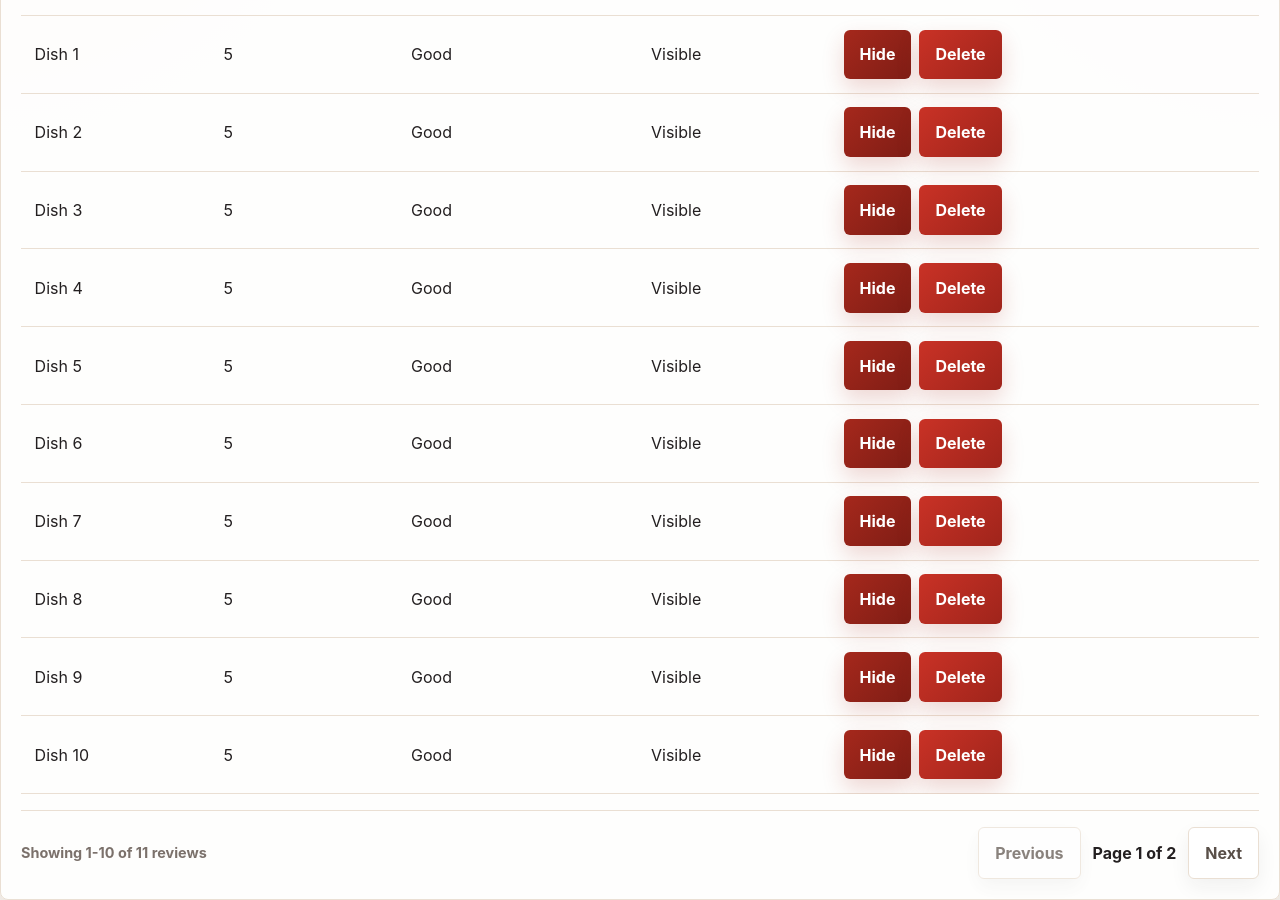
Test: ReviewManagementPage › paginates large review lists
This screenshot has width=1280, height=900.
(page scrolled)
Expected: the text "Dish 1" is shown, 21,16 -> 210,93
Expected: the text "Dish 11" is not shown
What coordinates should you click on to do the following:
click the button "Next"
I would click on:
 (1224, 853)
Its box is 1188,827 -> 1259,878.
(page scrolled)
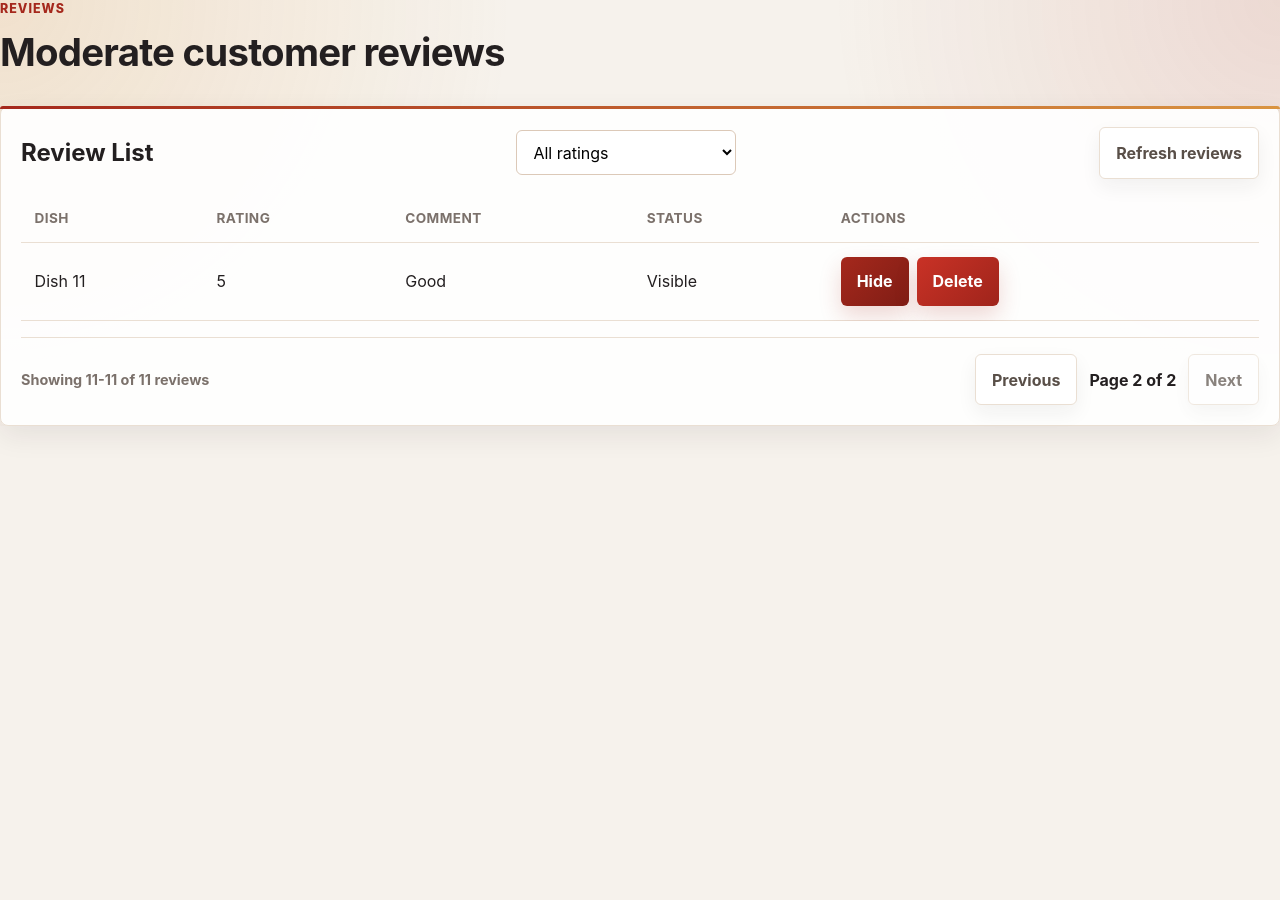
Now the text "Dish 11" is shown, box 21,243 -> 203,320
